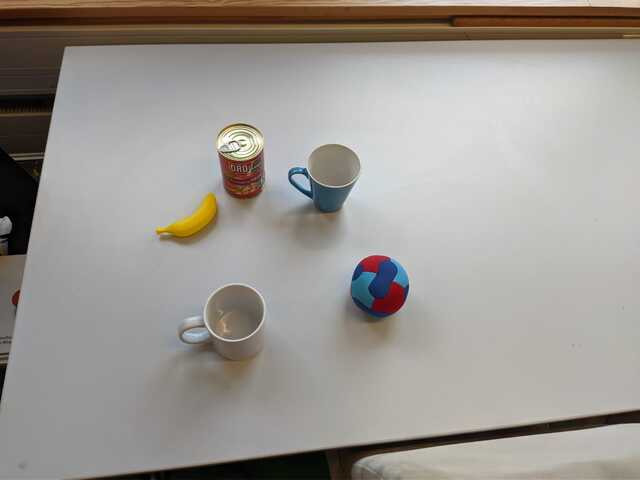005_tomato_soup_can: (215, 122, 267, 198)
011_banana: (153, 192, 219, 238)
025_mug: (178, 282, 268, 361), (287, 143, 361, 213)
057_racquetball: (351, 255, 410, 319)
